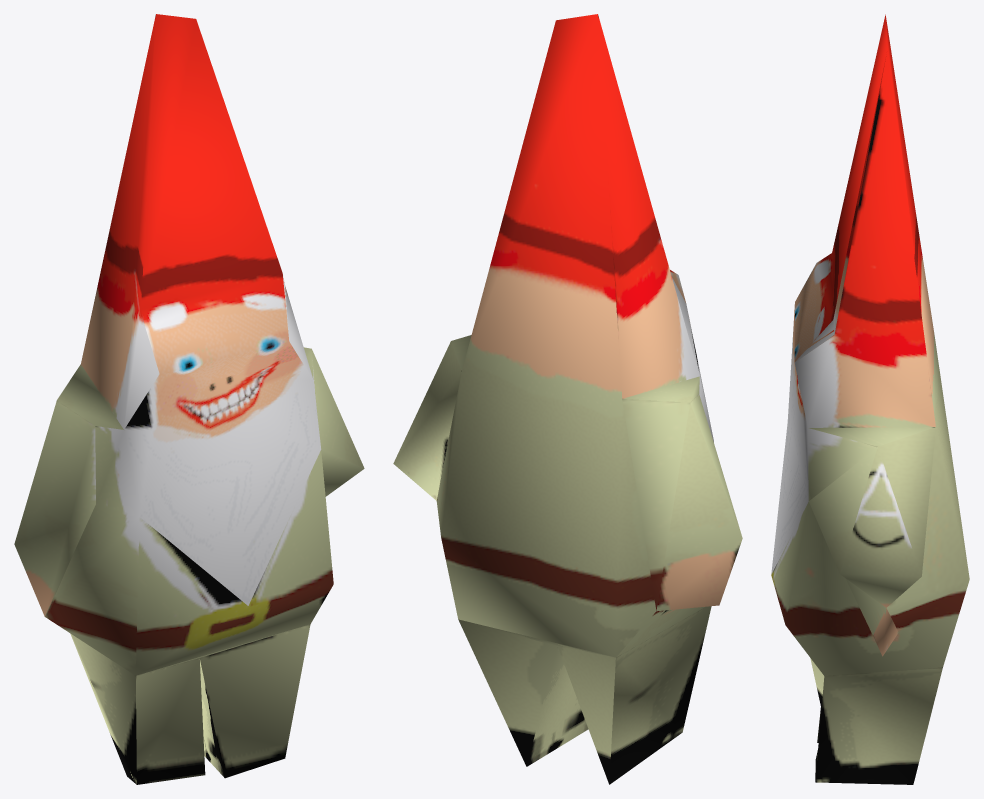
Rendered from Gnome_lod2.fbx.
3 renders of one model, left to right at view 1: azimuth 30°, elevation 25°; view 2: azimuth 150°, elevation 25°; view 3: azimuth 270°, elevation 25°, orthographic. The views are drawn at different scales.
Visible parts, largest first — view 1: лод 2; view 2: лод 2; view 3: лод 2.
Boxes of the visible parts, left/top/right/bottom form: лод 2: left=14, top=14, right=364, bottom=784; лод 2: left=393, top=14, right=742, bottom=784; лод 2: left=771, top=14, right=969, bottom=784.
Bounding box in the file's own units: 42.4 × 22.54 × 93.55.
